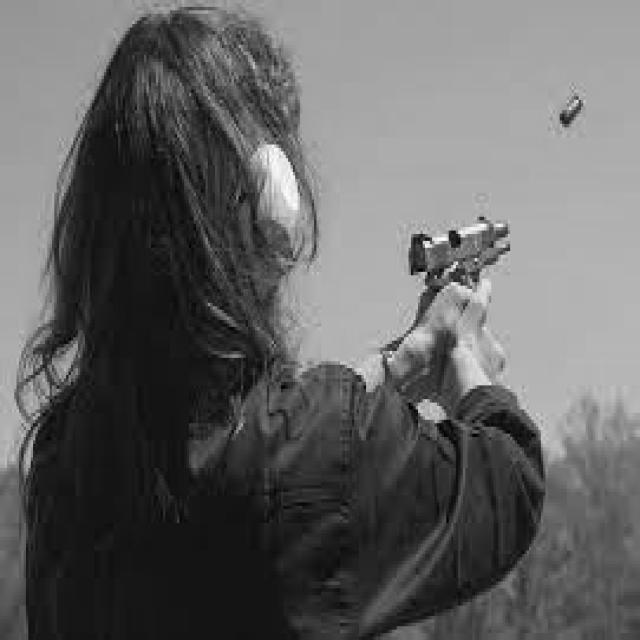gun: (411, 219, 511, 290)
